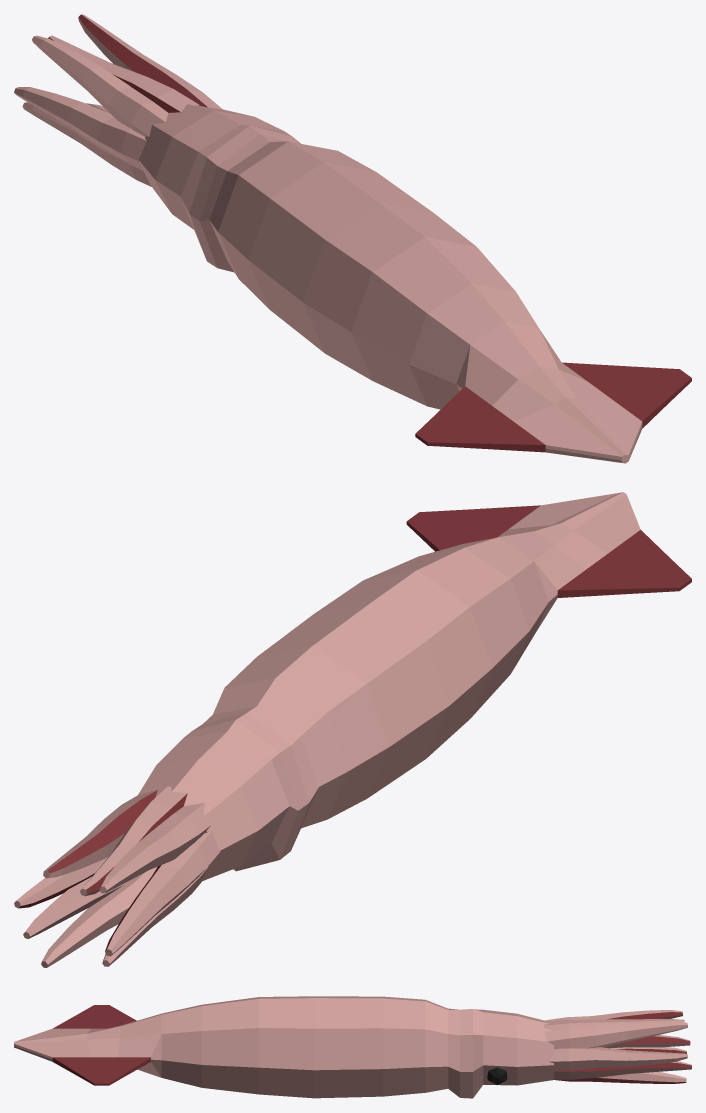
The picture shows the model from 3 angles, top to bottom: view 1: azimuth 30°, elevation 25°; view 2: azimuth 150°, elevation 25°; view 3: azimuth 270°, elevation 25°; orthographic projection. The views are drawn at different scales.
Visible parts, largest first — view 1: Geo_Squid; view 2: Geo_Squid; view 3: Geo_Squid.
Boxes of the visible parts, box(x1,y1,x2,y2) form: Geo_Squid: box(14, 14, 691, 463); Geo_Squid: box(14, 492, 691, 967); Geo_Squid: box(14, 996, 691, 1098).
Bounding box in the file's own units: 37.33 × 22.22 × 136.
Materials: 1 (1 with a texture image).
